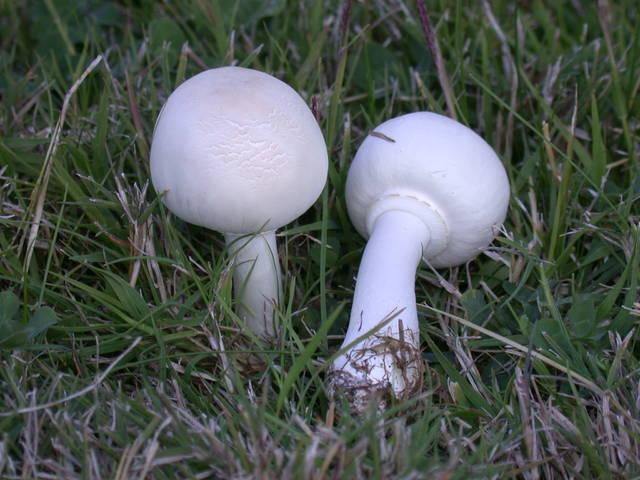Non-edible Mushroom: (324, 109, 511, 418), (147, 64, 329, 347)
